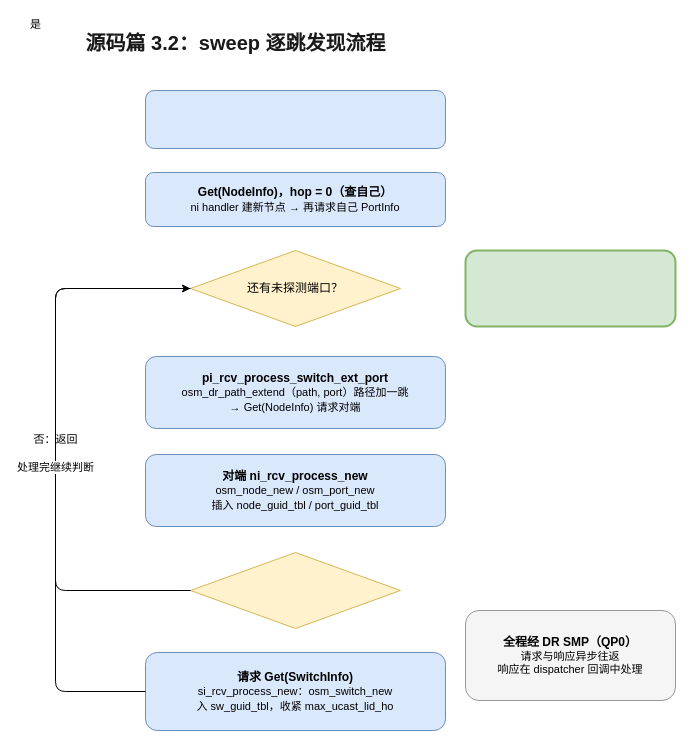
Some shapes in this 694 by 748 pixel diagram are drawn without their labels. Here are the shapes that lost their labels. From the top down, the box of each, then its label:
(144, 90, 446, 148): do_sweep → state_mgr_sweep_hop_0 清 node / port / sw 计数 · in_sweep_hop_0 = TRUE
(464, 249, 676, 327): sweep 完成，发出信号 DISCOVERY_COMPLETED → MASTER MASTER_OR_HIGHER → STANDBY
(190, 552, 400, 628): 是交换机？
